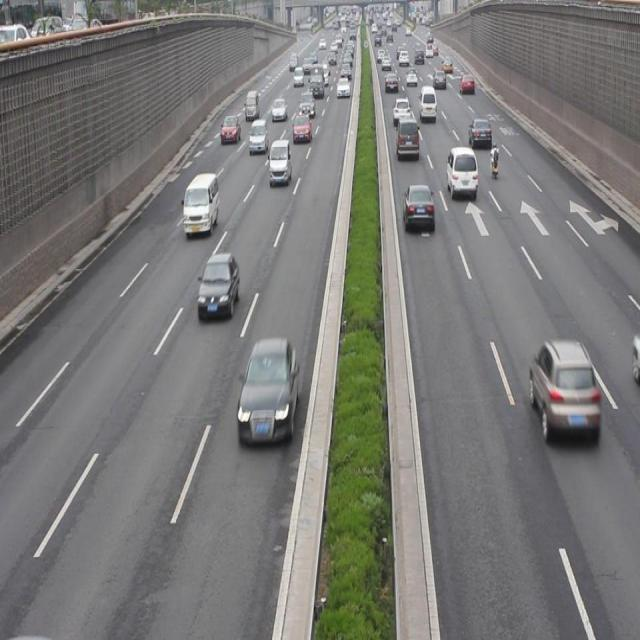car: (527, 338, 597, 438), (235, 335, 298, 441), (198, 252, 239, 316), (402, 182, 434, 232), (469, 117, 492, 152), (221, 112, 240, 144), (291, 111, 310, 143), (392, 97, 411, 125), (270, 97, 287, 120)
truck: (183, 172, 220, 235), (447, 144, 477, 197), (268, 138, 291, 184), (396, 114, 418, 160), (248, 119, 267, 154)
